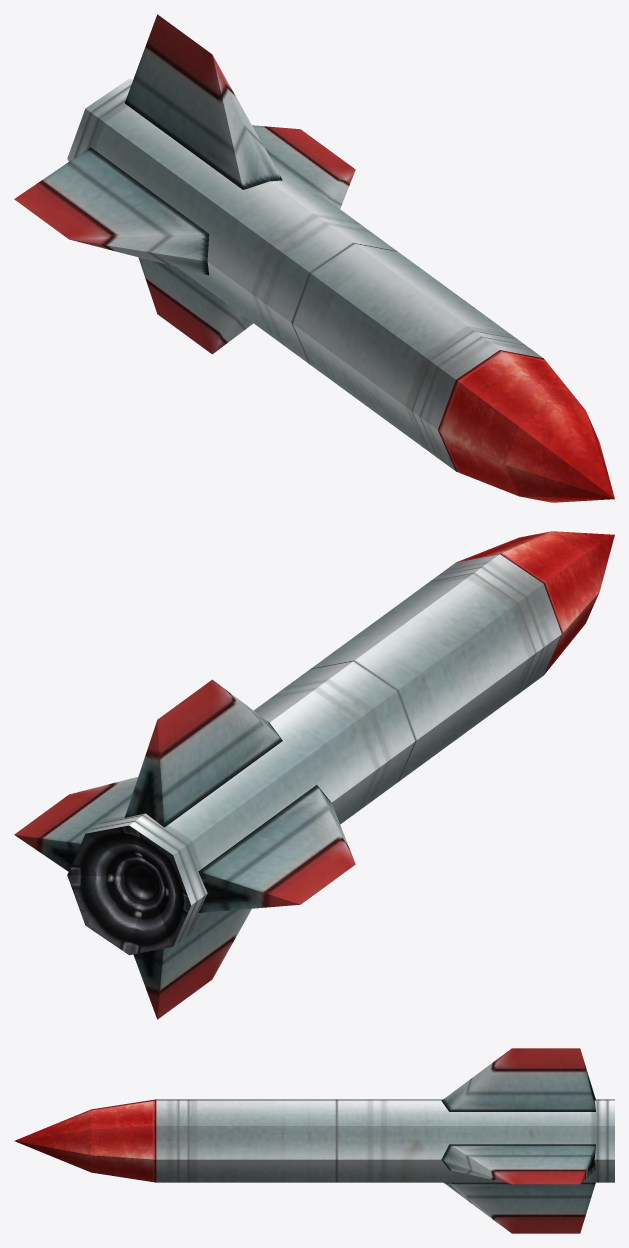
The model's file is BBLT6Y289HRMFUPXB4F97YQGM.fbx.
3 views of the same model, one above another, from view 1: azimuth 30°, elevation 25°; view 2: azimuth 150°, elevation 25°; view 3: azimuth 270°, elevation 25° (orthographic). The views are drawn at different scales.
Visible parts, largest first — view 1: Object_ROCKETS.jpg; view 2: Object_ROCKETS.jpg; view 3: Object_ROCKETS.jpg.
Part boxes in pixels (box(x1,y1,x2,y2)): Object_ROCKETS.jpg: box(14, 14, 614, 502); Object_ROCKETS.jpg: box(14, 531, 614, 1019); Object_ROCKETS.jpg: box(14, 1048, 614, 1233).
Bounding box in the file's own units: 0.852 × 0.852 × 2.5.
